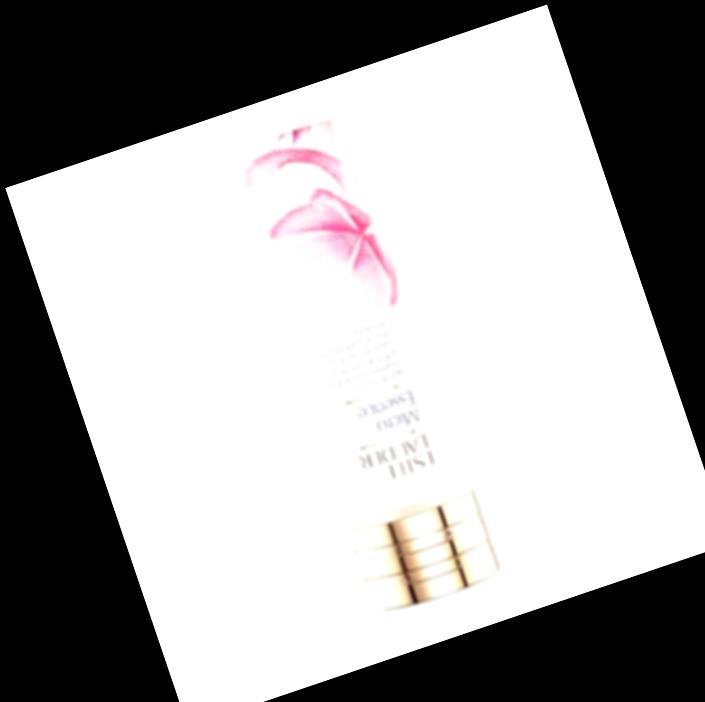cosmetic: (222, 113, 495, 613)
